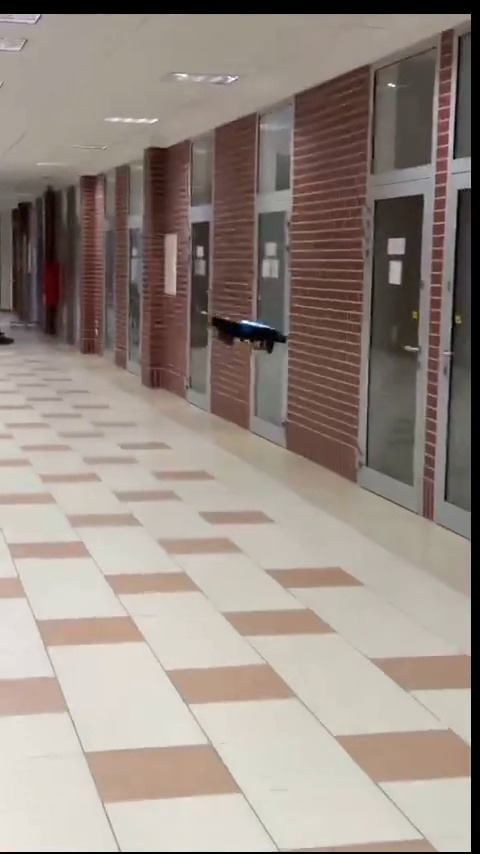drone: (209, 309, 280, 360)
